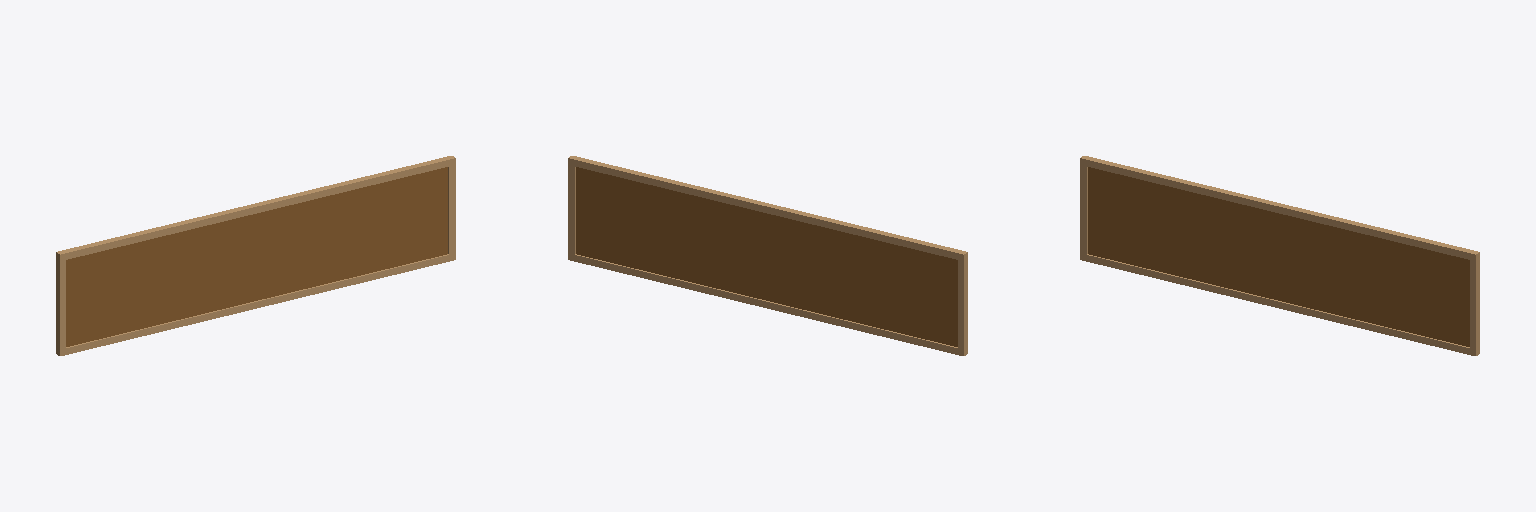
Rendered from CorkBoard.obj.
3 renders of one model, left to right at view 1: azimuth 30°, elevation 25°; view 2: azimuth 150°, elevation 25°; view 3: azimuth 330°, elevation 25°, orthographic.
Visible parts, largest first — view 1: mergedBlocks; view 2: mergedBlocks; view 3: mergedBlocks.
Part boxes in pixels (x1,y1,x2,y2): mergedBlocks: (56,156,455,355); mergedBlocks: (568,156,967,355); mergedBlocks: (1080,156,1479,355).
Bounding box in the file's own units: 6.1 × 1.5 × 0.1.